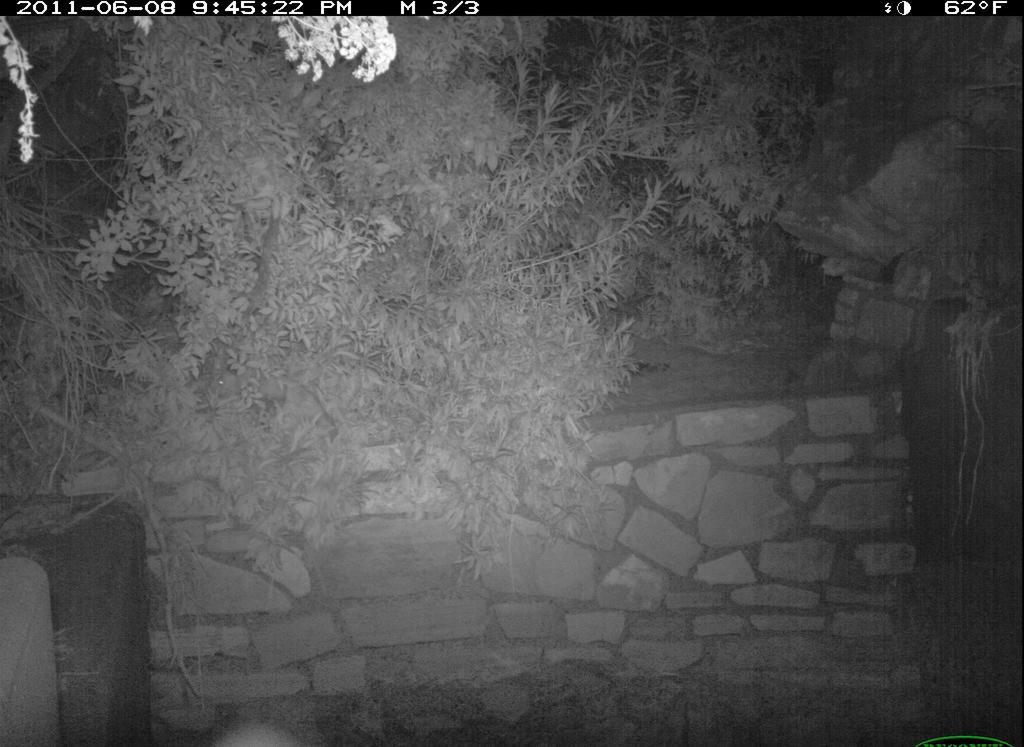opossum: (201, 355, 347, 437)
